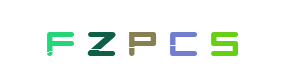C: (132, 0, 212, 80)
F: (18, 0, 98, 80)
P: (107, 0, 187, 80)
S: (147, 0, 227, 80)
Z: (61, 0, 141, 80)
